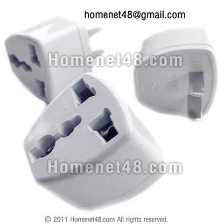three_eye_plug: (18, 65, 171, 216), (2, 6, 108, 111), (131, 20, 219, 122)
